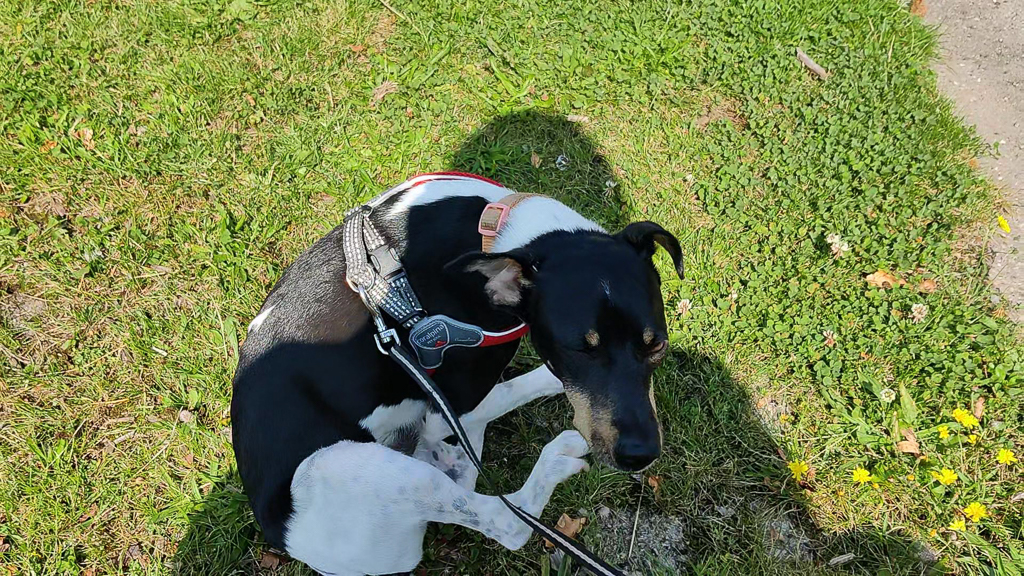Dog: (212, 157, 692, 576)
